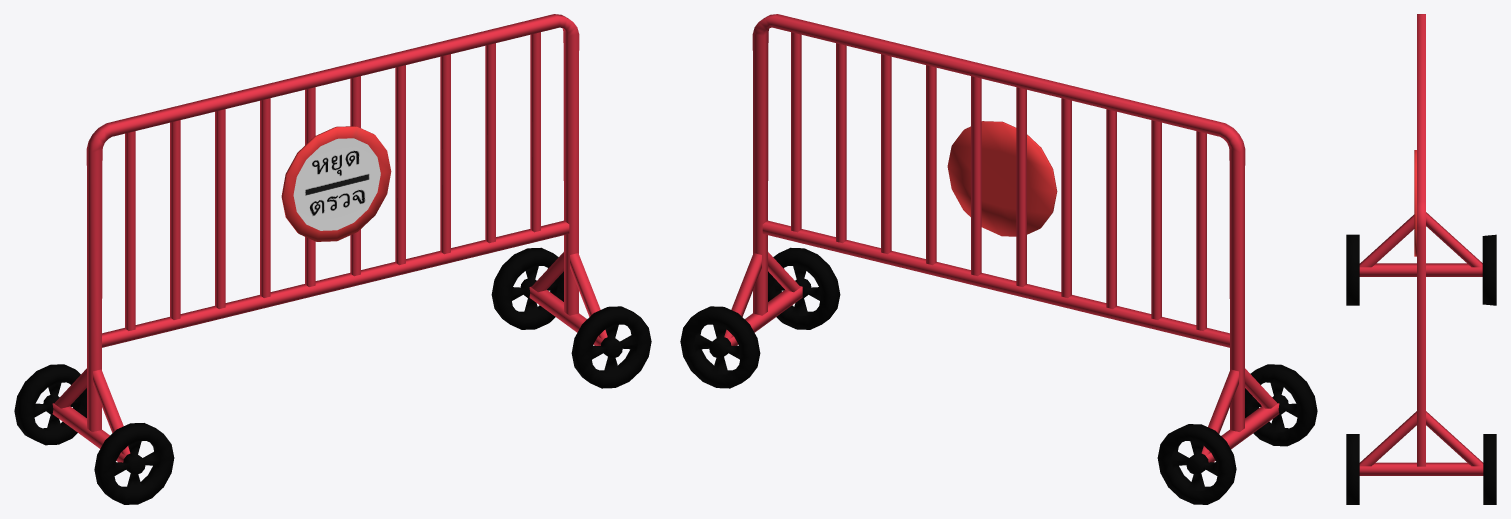
Rendered from TrafficBarrier.glb.
3 renders of one model, left to right at view 1: azimuth 30°, elevation 25°; view 2: azimuth 150°, elevation 25°; view 3: azimuth 270°, elevation 25°, orthographic. The views are drawn at different scales.
Visible parts, largest first — view 1: TrafficBarrier_Geo; view 2: TrafficBarrier_Geo; view 3: TrafficBarrier_Geo.
Boxes of the visible parts, x1,y1,x2,y2 form: TrafficBarrier_Geo: (14, 14, 651, 504); TrafficBarrier_Geo: (680, 14, 1317, 504); TrafficBarrier_Geo: (1346, 14, 1496, 504).
Bounding box in the file's own units: 12.19 × 7.29 × 3.38.
Materials: 3 (1 with a texture image).
